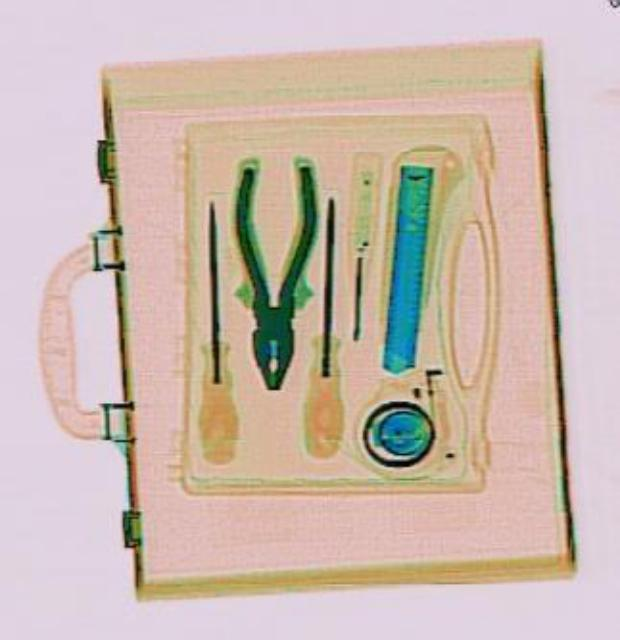Pliers: (230, 164, 314, 388)
